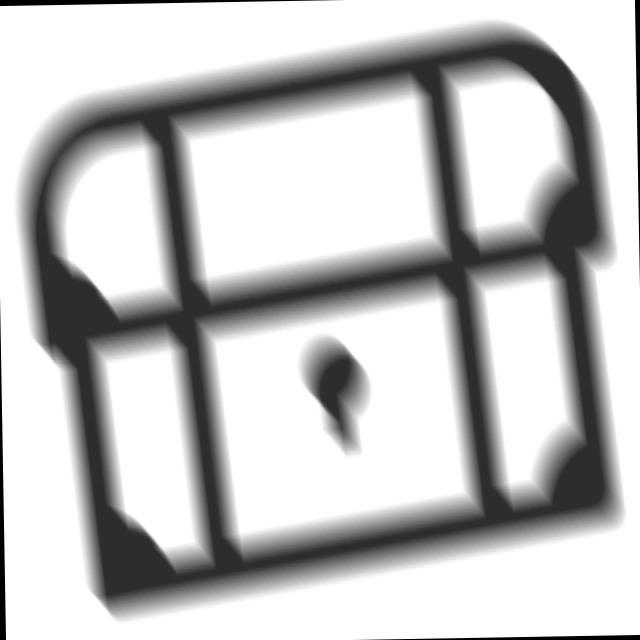treasure_box: (7, 7, 636, 636)
